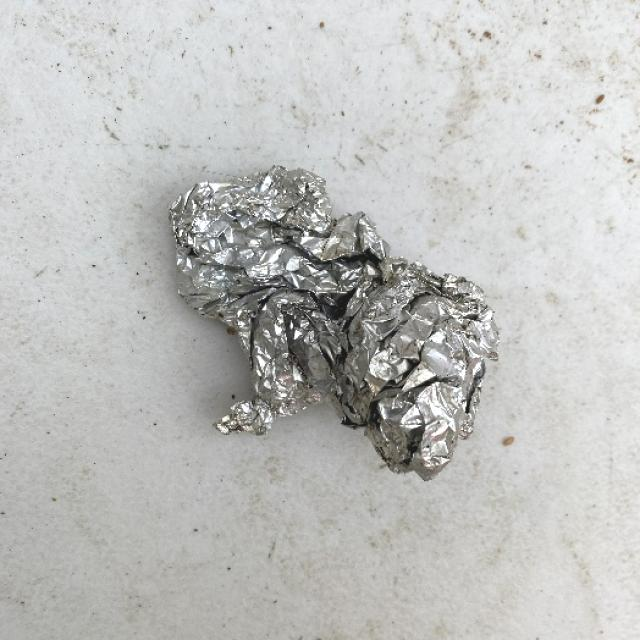inorganic: (162, 155, 508, 488)
